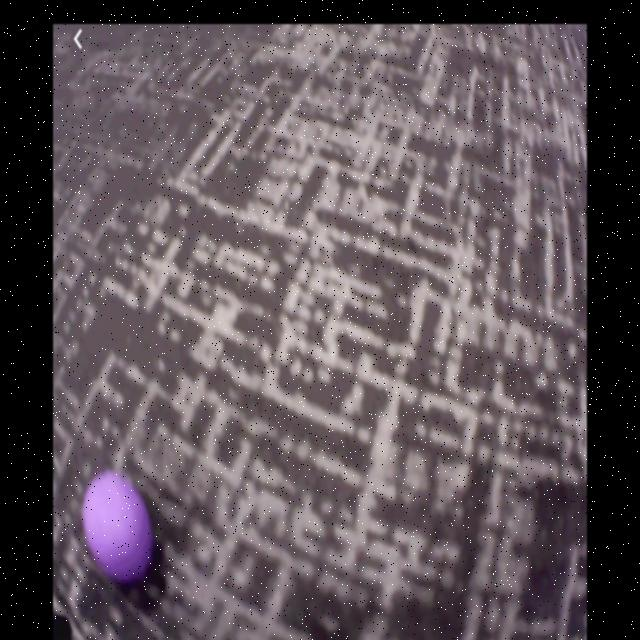ball: (83, 472, 156, 580)
